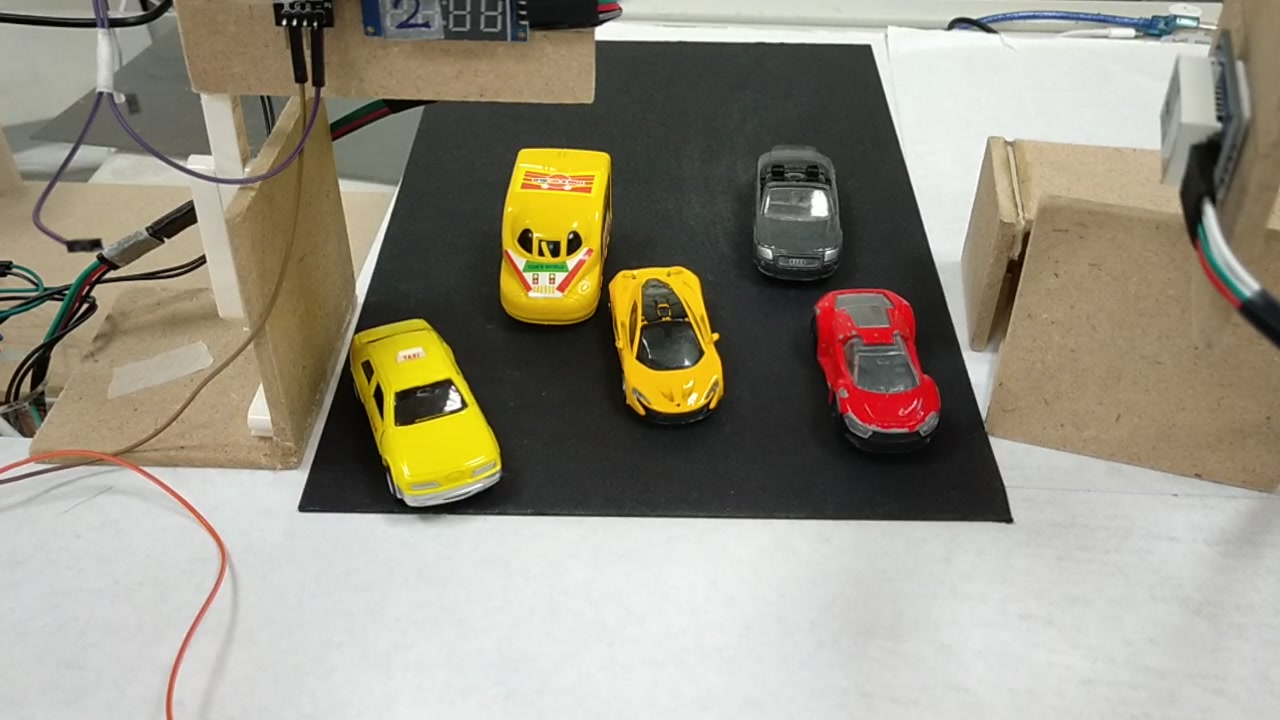car: (343, 333, 504, 506), (802, 279, 941, 441), (609, 272, 718, 417), (748, 146, 841, 275)
